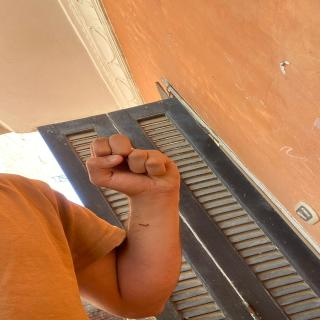QAAF: (69, 132, 208, 204)
